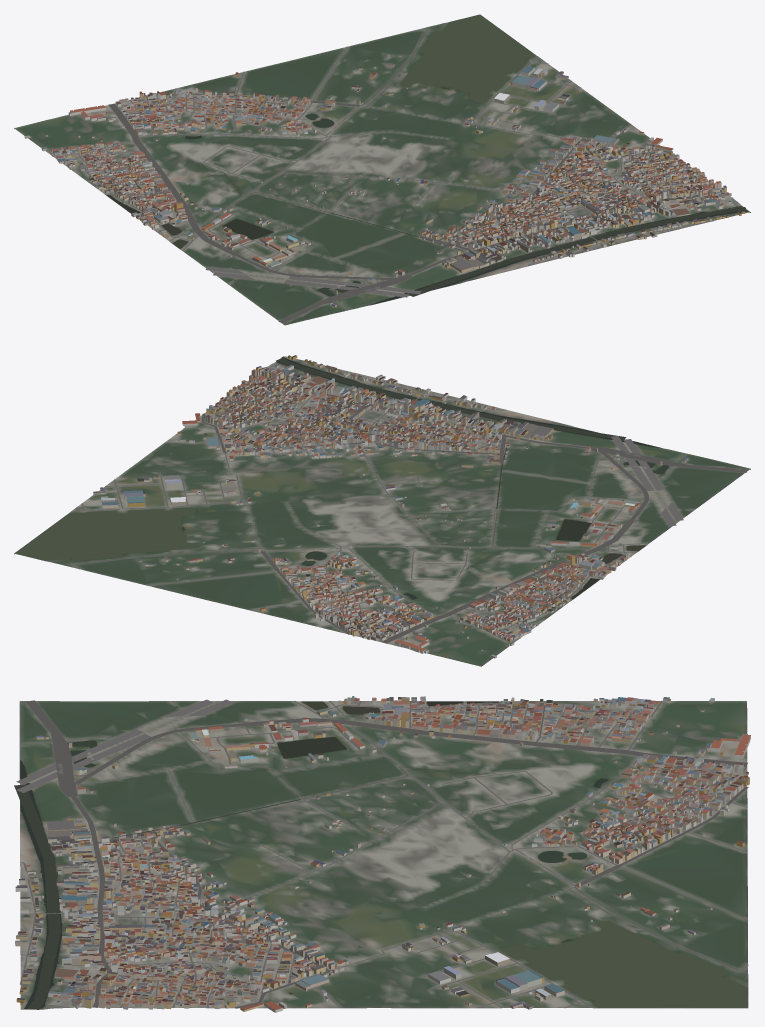
The picture shows the model from 3 angles, top to bottom: view 1: azimuth 30°, elevation 25°; view 2: azimuth 150°, elevation 25°; view 3: azimuth 270°, elevation 25°; orthographic projection. The views are drawn at different scales.
Visible parts, largest first — view 1: ground, buildings, water, roads; view 2: ground, buildings, water, roads; view 3: ground, buildings, water, roads.
Boxes of the visible parts, bbox=[...] form: ground: bbox=[14, 19, 750, 325]; buildings: bbox=[24, 54, 745, 306]; water: bbox=[107, 14, 748, 304]; roads: bbox=[46, 29, 735, 323]; ground: bbox=[14, 356, 750, 666]; buildings: bbox=[93, 355, 688, 658]; water: bbox=[15, 357, 669, 599]; roads: bbox=[71, 364, 747, 643]; ground: bbox=[19, 701, 748, 1009]; buildings: bbox=[15, 696, 750, 1012]; water: bbox=[14, 701, 747, 1009]; roads: bbox=[16, 699, 748, 1008].
Bounding box in the file's own units: 1427 × 34.59 × 1420.
